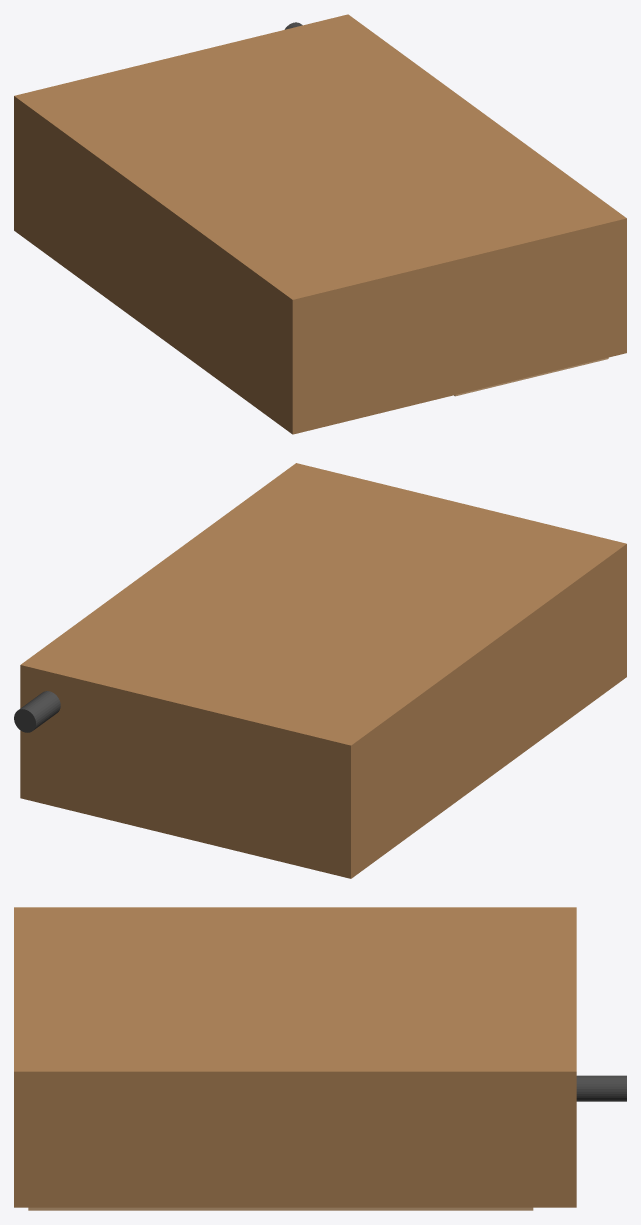
Rendered from cupboards.glb.
The picture shows the model from 3 angles, top to bottom: view 1: azimuth 30°, elevation 25°; view 2: azimuth 150°, elevation 25°; view 3: azimuth 270°, elevation 25°; orthographic projection.
Visible parts, largest first — view 1: Body; view 2: Body, Leg; view 3: Body, Door, Leg.
Boxes of the visible parts, x1,y1,x2,y2 form: Body: [14, 14, 626, 434]; Body: [20, 463, 626, 878]; Leg: [14, 691, 60, 732]; Body: [14, 907, 576, 1207]; Door: [28, 1207, 533, 1210]; Leg: [576, 1075, 626, 1101].
Size of the model in its own units: 1.35 by 0.57 by 2.12.
